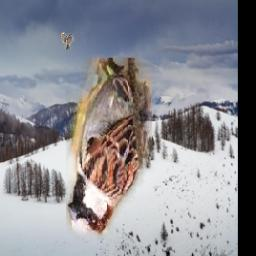Sparrow: (66, 59, 152, 242), (62, 33, 78, 51)
